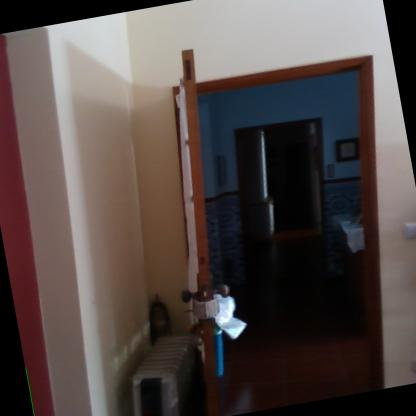open: (139, 7, 415, 415)
